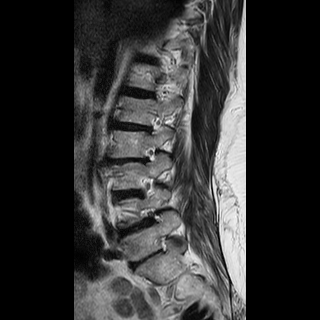RFS0: (138, 139, 161, 169)
